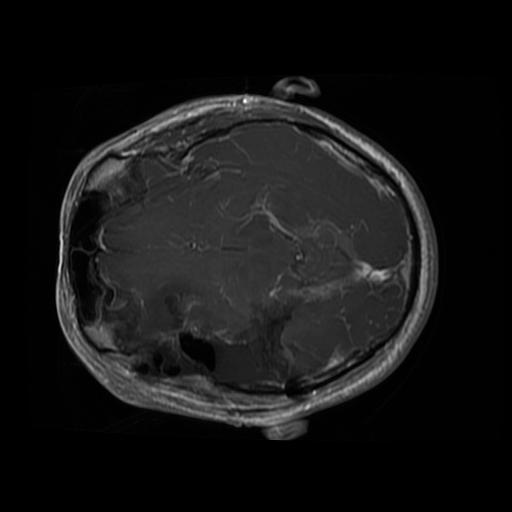glioma: (110, 277, 290, 395)
